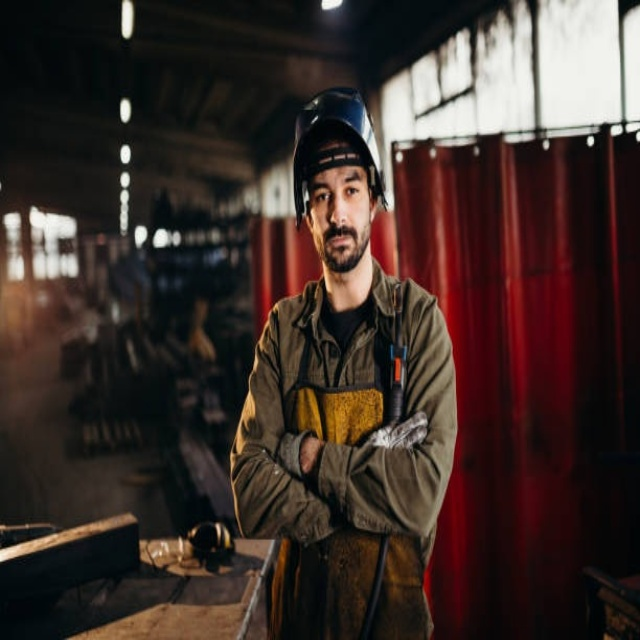Guantes: (362, 410, 429, 452)
Sin_gafas: (312, 169, 364, 212)
Sin_mascara: (322, 229, 361, 264)
